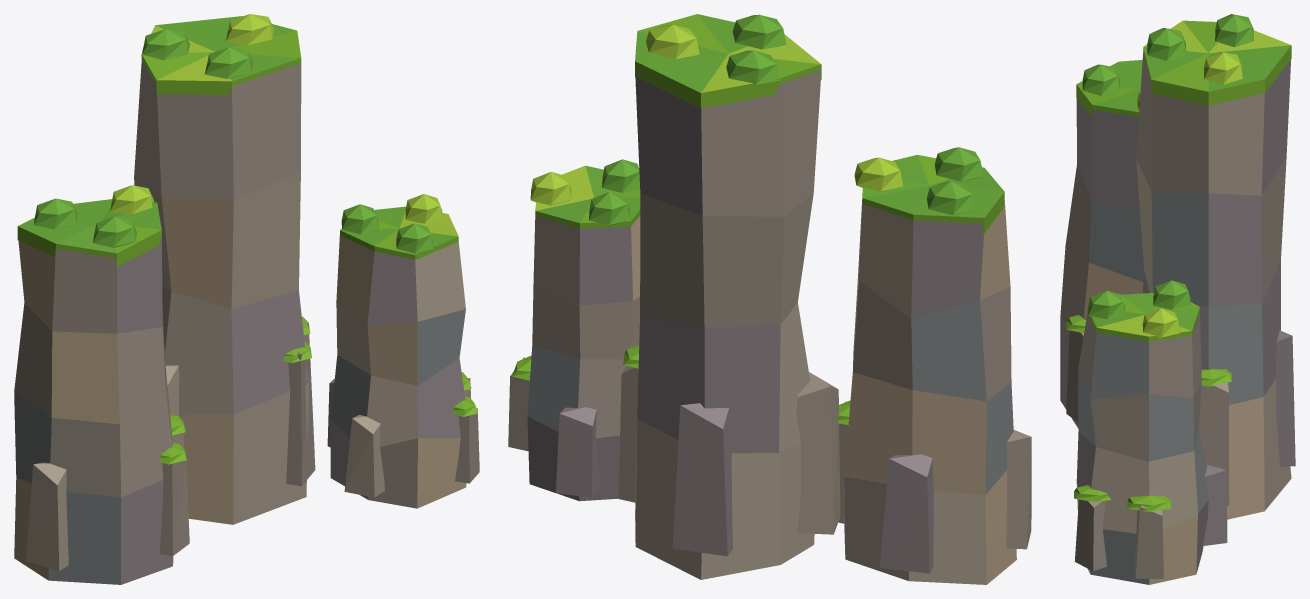
File: sea_stacks.glb
3 views of the same model, side by side, from view 1: azimuth 30°, elevation 25°; view 2: azimuth 150°, elevation 25°; view 3: azimuth 270°, elevation 25° (orthographic). The views are drawn at different scales.
Visible parts, largest first — view 1: sea_stacks_MOBILE_LOD1; view 2: sea_stacks_MOBILE_LOD1; view 3: sea_stacks_MOBILE_LOD1.
Part boxes in pixels (left/top/right/bottom): sea_stacks_MOBILE_LOD1: left=14, top=14, right=479, bottom=584; sea_stacks_MOBILE_LOD1: left=508, top=14, right=1031, bottom=584; sea_stacks_MOBILE_LOD1: left=1060, top=14, right=1295, bottom=584.
Size of the model in its own units: 9.16 by 8.98 by 4.2.
